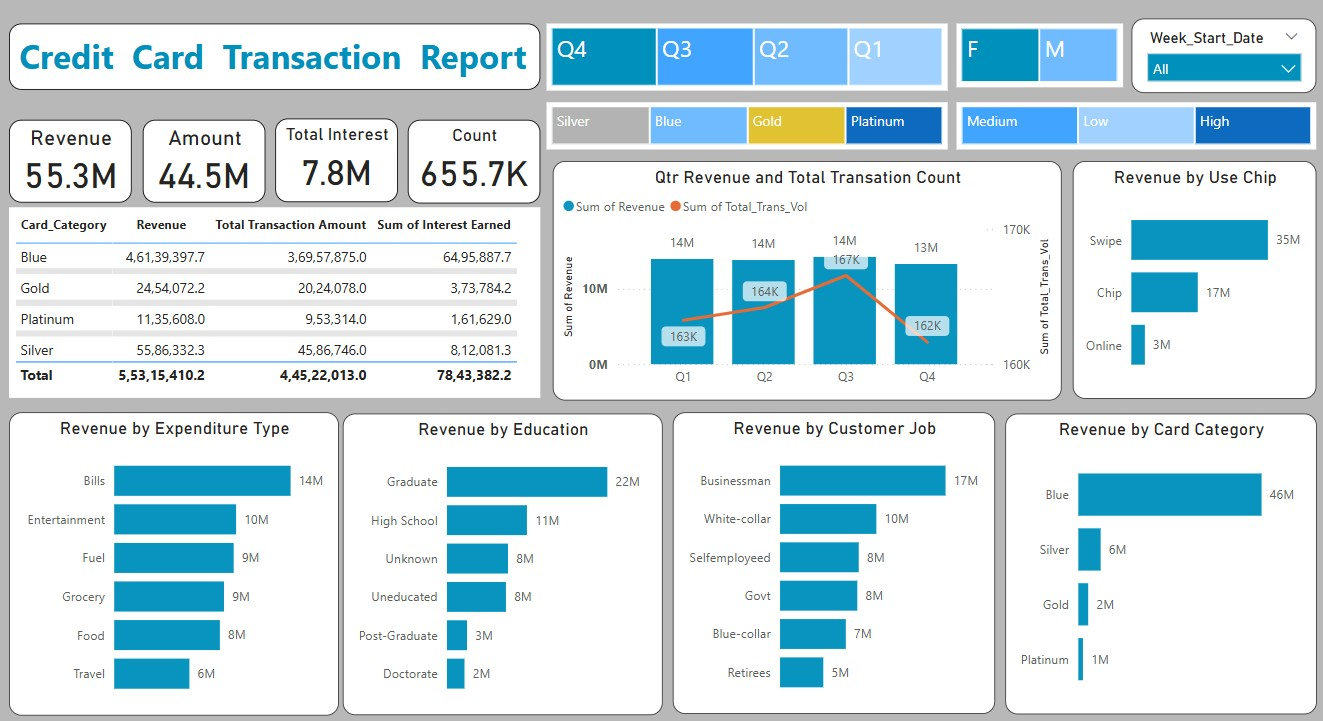

What the dashboard file says about the page in this screenshot:
{"tool":"powerbi","page":{"name":"CC Transation","canvas":[1280,720],"ordinal":1},"visuals":[{"type":"textbox","box":[10,41.4,513,64.3],"z":0},{"type":"lineStackedColumnComboChart","title":"Qtr Revenue and Total Transation Count","fields":{"Y":["Sum(cc_detail.Revenue)"],"Y2":["Sum(cc_detail.Total_Trans_Vol)"],"Category":["cc_detail.QtrFormatted"]},"box":[534.4,174.3,491.5,231.5],"z":1000},{"type":"barChart","title":"Revenue by Expenditure Type","fields":{"Y":["Sum(cc_detail.Revenue)"],"Category":["cc_detail.Exp_Type"]},"box":[10,415.8,318.6,292.9],"z":2000},{"type":"barChart","title":"Revenue by Education","fields":{"Y":["Sum(cc_detail.Revenue)"],"Category":["cust_detail.Education_Level"]},"box":[331.5,417.2,308.6,291.5],"z":3000},{"type":"barChart","title":"Revenue by Customer Job","fields":{"Y":["Sum(cc_detail.Revenue)"],"Category":["cust_detail.Customer_Job"]},"box":[650.1,415.8,311.5,291.5],"z":4000},{"type":"barChart","title":"Revenue by Card Category","fields":{"Y":["Sum(cc_detail.Revenue)"],"Category":["cc_detail.Card_Category"]},"box":[971.2,417.4,300.4,290.8],"z":5000},{"type":"barChart","title":"Revenue by Use Chip","fields":{"Y":["Sum(cc_detail.Revenue)"],"Category":["cc_detail.Use_Chip"]},"box":[1036.3,173.7,235.3,229.2],"z":6000},{"type":"tableEx","fields":{"Values":["cc_detail.Card_Category","Sum(cc_detail.Revenue)","Sum(cc_detail.Total_Trans_Amt)","Sum(cc_detail.Interest_Earned)"]},"box":[10,218.6,513,184.3],"z":7000},{"type":"card","title":"Revenue","fields":{"Values":["Sum(cc_detail.Revenue)"]},"box":[10,134.3,118.6,80],"z":8000},{"type":"card","title":"Amount","fields":{"Values":["Sum(cc_detail.Total_Trans_Amt)"]},"box":[138.6,134.3,118.6,80],"z":9000},{"type":"card","title":"Total Interest","fields":{"Values":["Sum(cc_detail.Interest_Earned)"]},"box":[266.6,132.7,118.2,80.8],"z":10000},{"type":"card","title":"Count","fields":{"Values":["Sum(cc_detail.Total_Trans_Vol)"]},"box":[394.5,133.9,127.9,80.8],"z":11000},{"type":"slicer","fields":{"Values":["cc_detail.Week_Start_Date"]},"box":[1093,36.2,178.6,72.4],"z":12000},{"type":"treemap","fields":{"Values":["Avg(cc_detail.Client_Num)"],"Group":["cc_detail.QtrFormatted"]},"box":[528.4,41,387.3,65.1],"z":13000},{"type":"treemap","fields":{"Values":["Avg(cc_detail.Client_Num)"],"Group":["cust_detail.Gender"]},"box":[924.1,41,160.5,61.5],"z":14000},{"type":"treemap","fields":{"Values":["Avg(cc_detail.Client_Num)"],"Group":["cc_detail.Card_Category"]},"box":[528.4,117,387.3,45.8],"z":15000},{"type":"treemap","fields":{"Values":["Avg(cc_detail.Client_Num)"],"Group":["cust_detail.IncomeGroup"]},"box":[924.1,117,347.5,45.8],"z":16000}]}

Visuals, with their boxes on the page's 1280x720 design canvas (x1, y1, x2, y2). These are canvas units, not pixel positions in the 1323x721 screenshot, which may show the page scaled, cropped or inside an application window:
textbox: bbox(10, 41, 523, 106)
"Qtr Revenue and Total Transation Count" lineStackedColumnComboChart: bbox(534, 174, 1026, 406)
"Revenue by Expenditure Type" barChart: bbox(10, 416, 329, 709)
"Revenue by Education" barChart: bbox(332, 417, 640, 709)
"Revenue by Customer Job" barChart: bbox(650, 416, 962, 707)
"Revenue by Card Category" barChart: bbox(971, 417, 1272, 708)
"Revenue by Use Chip" barChart: bbox(1036, 174, 1272, 403)
tableEx - cc_detail.Card_Category x Sum(cc_detail.Revenue): bbox(10, 219, 523, 403)
"Revenue" card: bbox(10, 134, 129, 214)
"Amount" card: bbox(139, 134, 257, 214)
"Total Interest" card: bbox(267, 133, 385, 214)
"Count" card: bbox(394, 134, 522, 215)
slicer - cc_detail.Week_Start_Date: bbox(1093, 36, 1272, 109)
treemap - Avg(cc_detail.Client_Num) x cc_detail.QtrFormatted: bbox(528, 41, 916, 106)
treemap - Avg(cc_detail.Client_Num) x cust_detail.Gender: bbox(924, 41, 1085, 102)
treemap - Avg(cc_detail.Client_Num) x cc_detail.Card_Category: bbox(528, 117, 916, 163)
treemap - Avg(cc_detail.Client_Num) x cust_detail.IncomeGroup: bbox(924, 117, 1272, 163)
